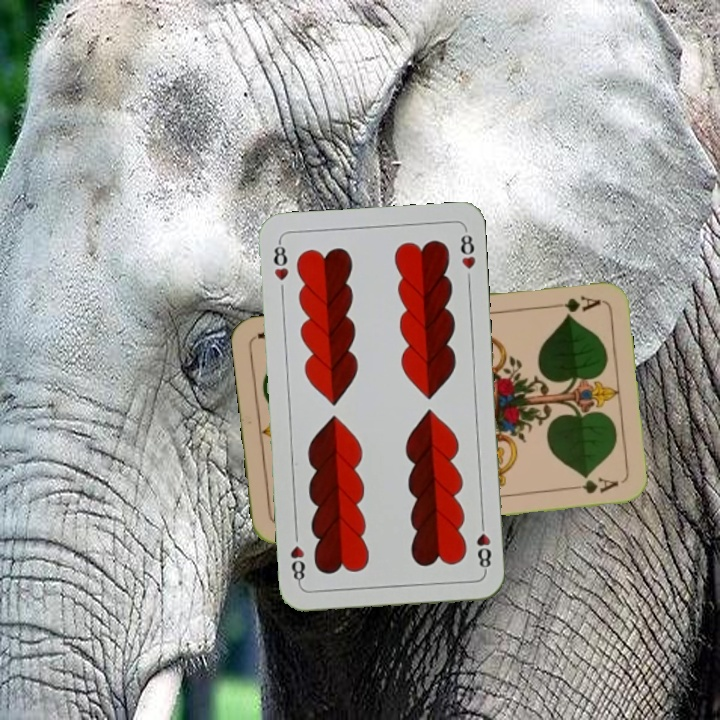GA: (544, 291, 603, 316)
H8: (472, 516, 494, 575), (269, 237, 291, 283)
